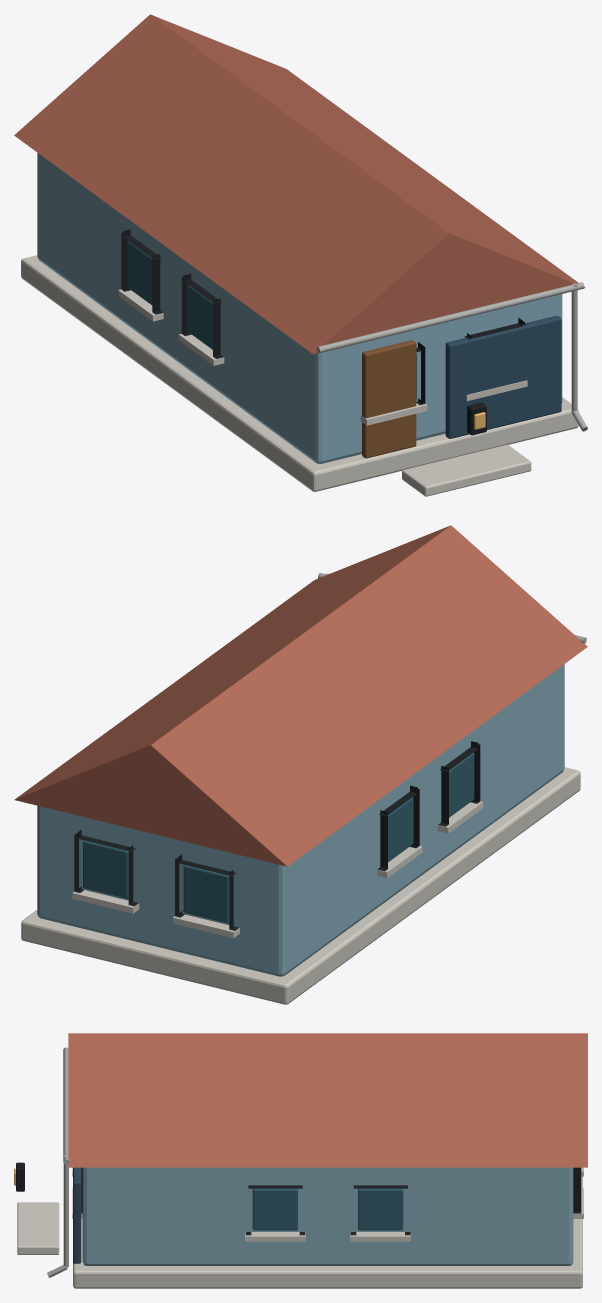
The model's file is RES_LOW_1x2_006.glb.
3 views of the same model, one above another, from view 1: azimuth 30°, elevation 25°; view 2: azimuth 150°, elevation 25°; view 3: azimuth 270°, elevation 25° (orthographic). The views are drawn at different scales.
Parts seen in each view (by area): view 1: RES_LOW_1x2_006_Visual; view 2: RES_LOW_1x2_006_Visual; view 3: RES_LOW_1x2_006_Visual.
Part boxes in pixels (box(x1,y1,x2,y2)): RES_LOW_1x2_006_Visual: box(14, 14, 587, 496); RES_LOW_1x2_006_Visual: box(14, 525, 587, 1004); RES_LOW_1x2_006_Visual: box(14, 1033, 587, 1288).
Size of what is drawn, in the model's own units: 1.69 by 1.36 by 3.55.
